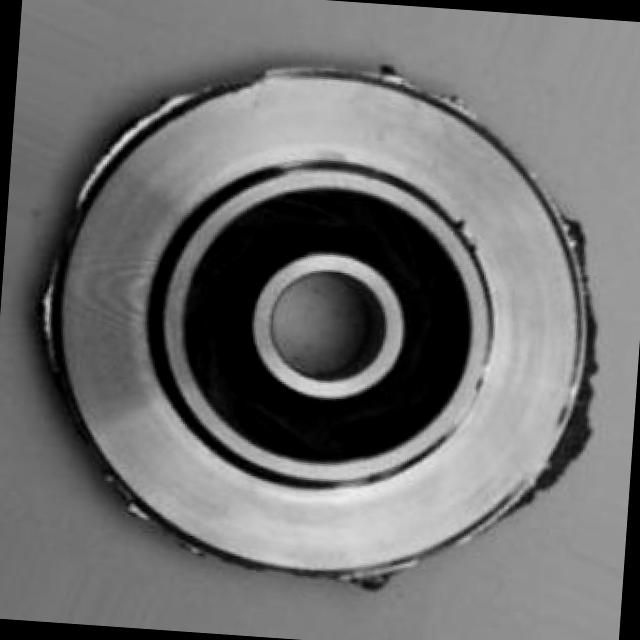Defect: (554, 388, 604, 478)
